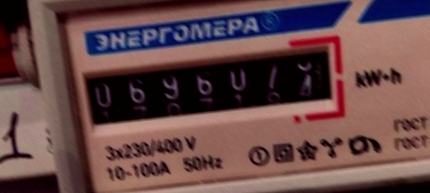0: (227, 62, 248, 93), (93, 80, 113, 109)
4: (295, 70, 315, 100)
6: (127, 75, 147, 105), (195, 66, 214, 97)
7: (261, 59, 283, 92)
9: (160, 72, 181, 101)
screen: (69, 31, 353, 143)
